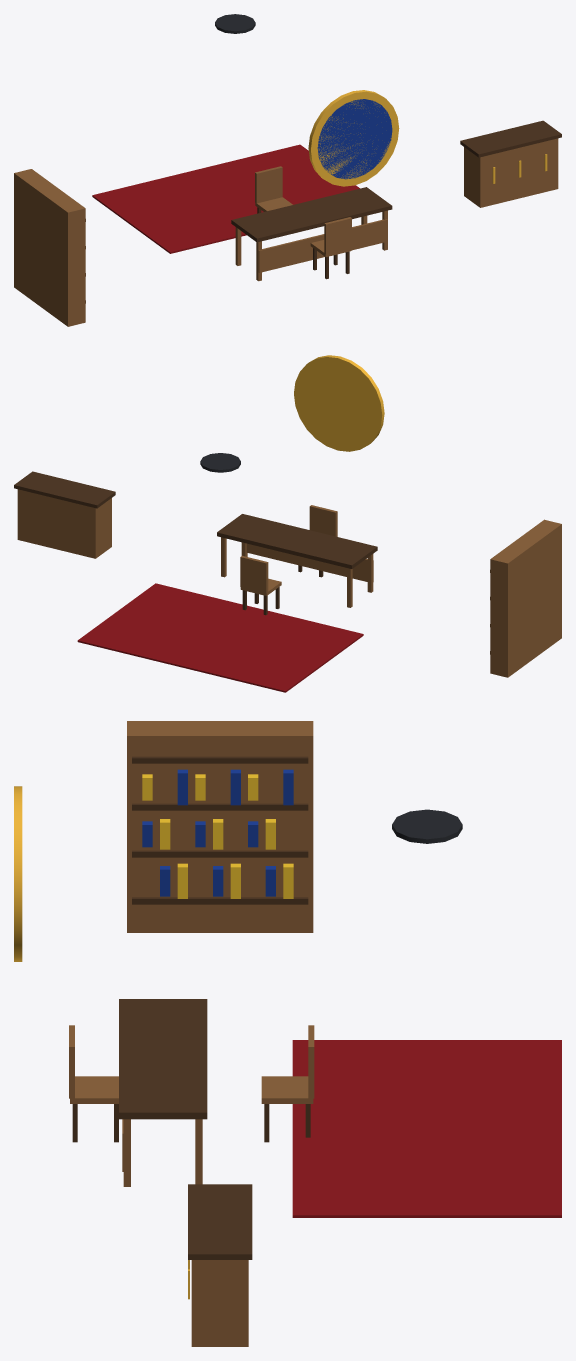
The model's file is SM_Interior_academy_chancellor_office_Props.fbx.
The picture shows the model from 3 angles, top to bottom: view 1: azimuth 30°, elevation 25°; view 2: azimuth 150°, elevation 25°; view 3: azimuth 270°, elevation 25°; orthographic projection. The views are drawn at different scales.
Visible parts, largest first — view 1: SM_Interior_academy_chancellor_office_Props; view 2: SM_Interior_academy_chancellor_office_Props; view 3: SM_Interior_academy_chancellor_office_Props.
Boxes of the visible parts, x1,y1,x2,y2 form: SM_Interior_academy_chancellor_office_Props: (14,14,561,326); SM_Interior_academy_chancellor_office_Props: (14,355,561,692); SM_Interior_academy_chancellor_office_Props: (14,721,561,1346).
Bounding box in the file's own units: 9.84 × 3.6 × 5.29.
